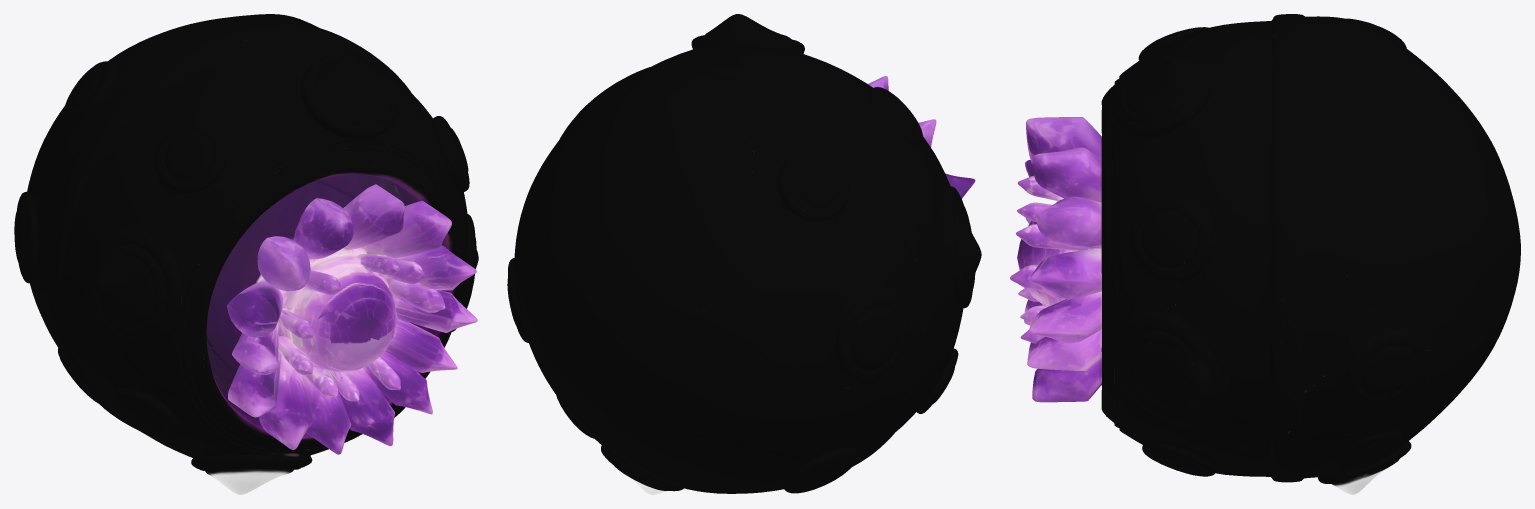
File: Dorian_Crystal_OS_MML_FINAL.glb
3 renders of one model, left to right at view 1: azimuth 30°, elevation 25°; view 2: azimuth 150°, elevation 25°; view 3: azimuth 270°, elevation 25°, orthographic. The views are drawn at different scales.
Parts seen in each view (by area): view 1: material; view 2: material; view 3: material.
Part boxes in pixels (x1,y1,x2,y2): material: (14,14,478,494); material: (507,14,981,494); material: (1010,14,1520,494).
Size of the model in its own units: 1.48 by 1.5 by 1.6.
1 material, 1 textured.
